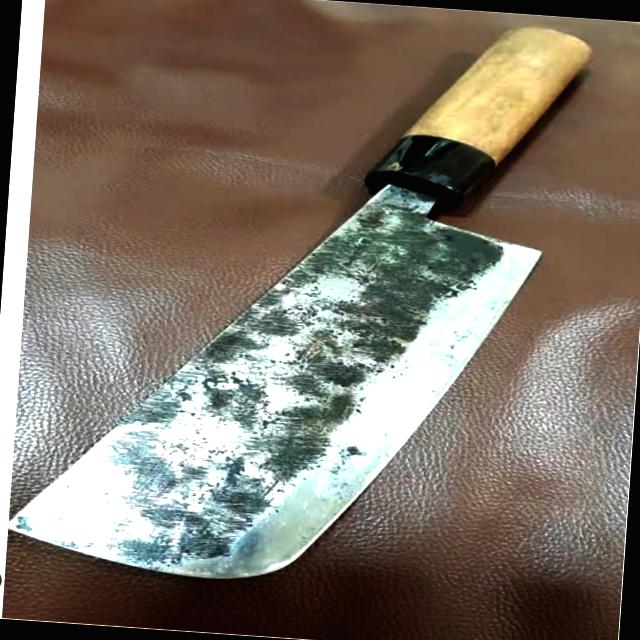knife: (23, 0, 610, 609)
